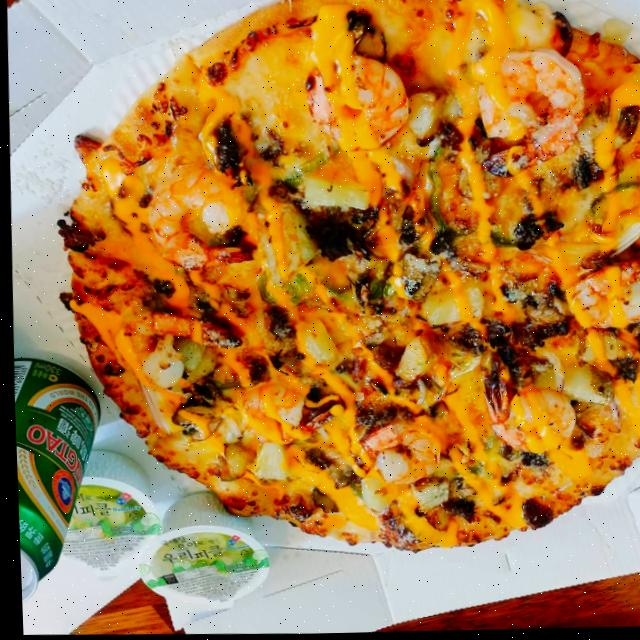mushrooms: (512, 283, 574, 332), (385, 252, 439, 302), (174, 410, 224, 447), (180, 280, 222, 320), (299, 486, 339, 520), (321, 467, 355, 495)
pizza: (43, 0, 640, 562)
